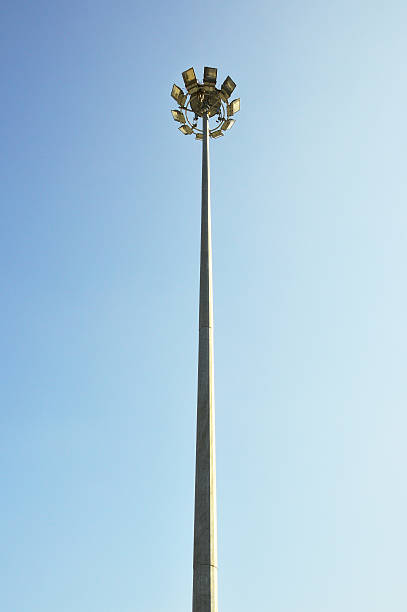light_pole: (194, 136, 217, 611)
